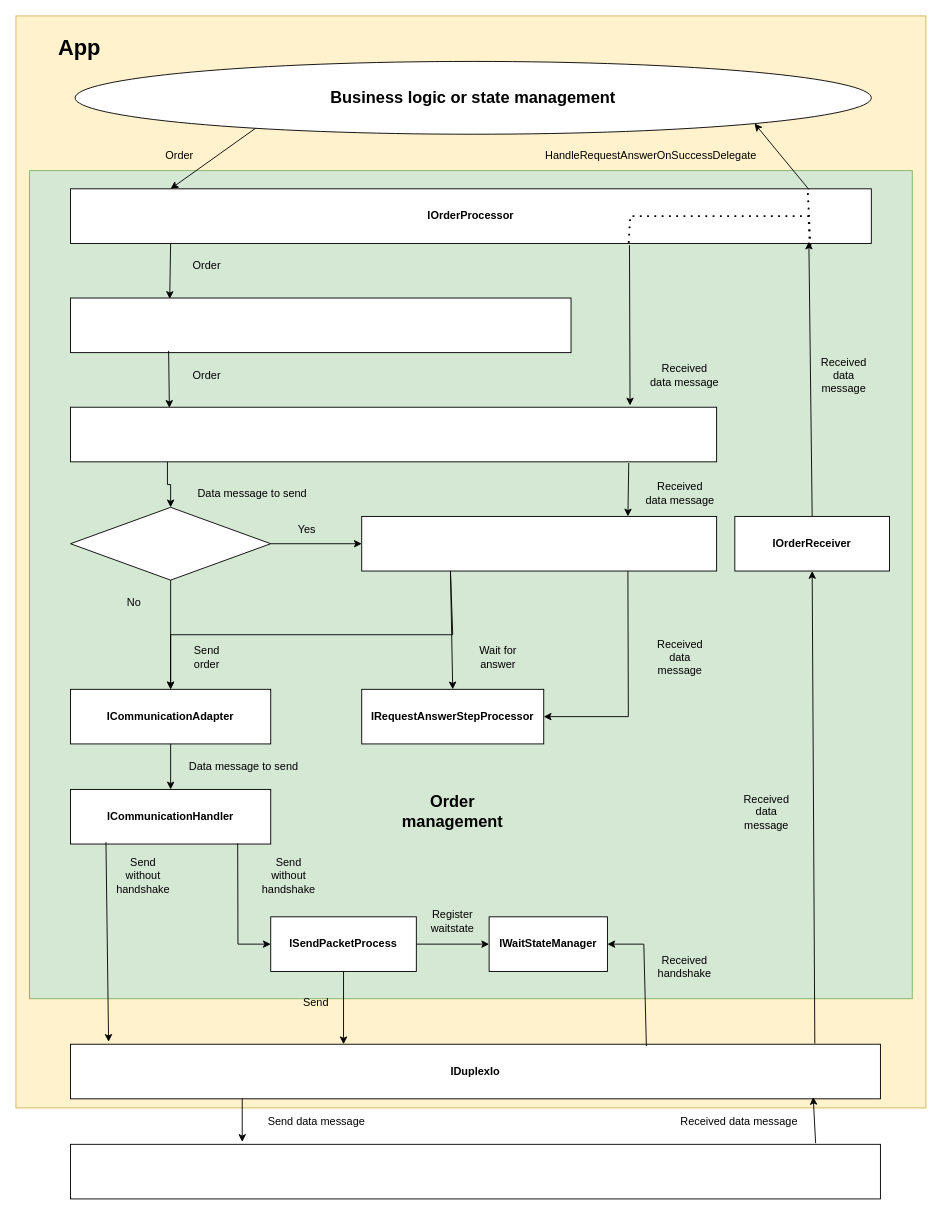
Image size: 942x1215. Some labels were removed from this diagram. The shapes that lost their labels are listed below. From the top down, each one's centre as x and y in pixels, then its label:
At (x=320, y=325): "IOrderPipeline".
At (x=393, y=434): "IRequestProcessor".
At (x=170, y=543): "Wait for answer required".
At (x=539, y=543): "IRequestStepProcessor".
At (x=475, y=1171): "Device".
